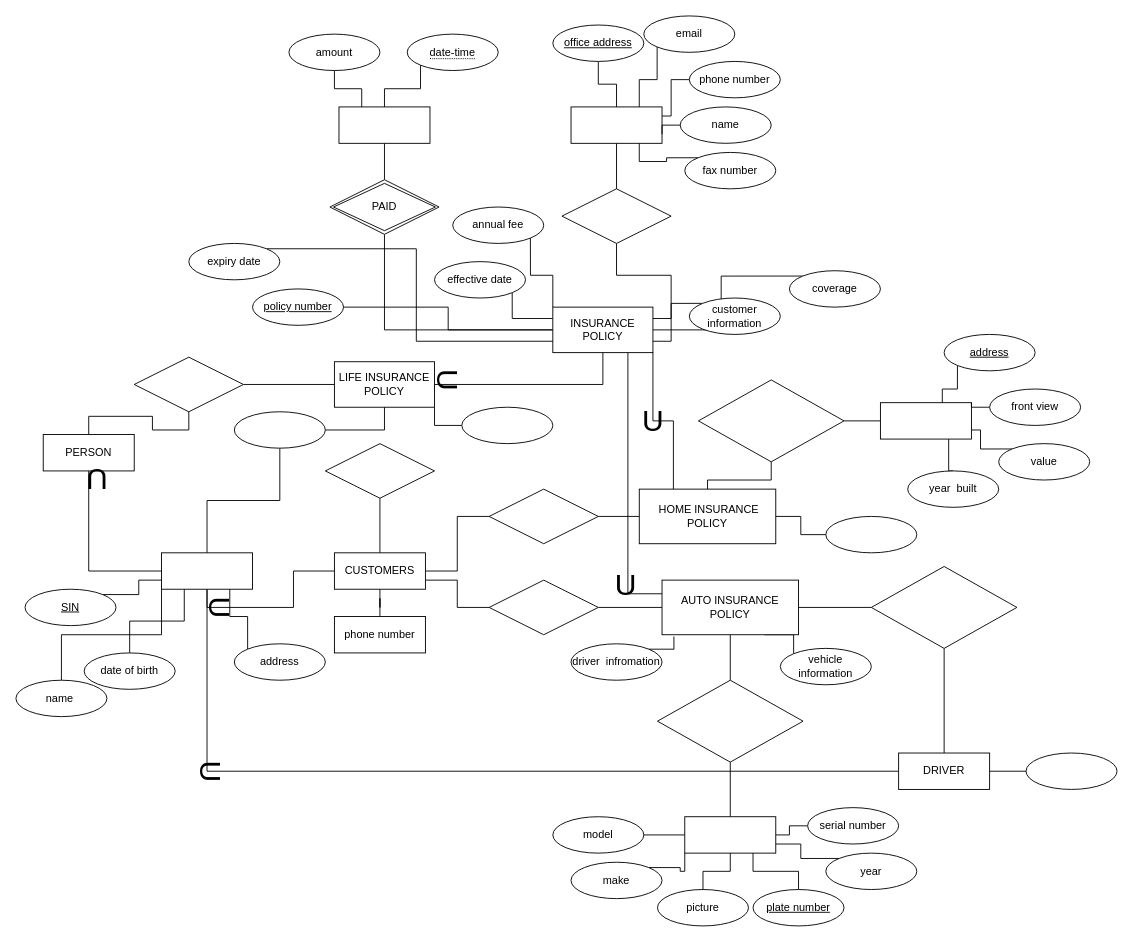
Some shapes in this 1133 by 942 pixel diagram are drawn without their labels. The centre of each missing label's shape, as x and y in pixels:
"beneficiary" belongs at pixel 279 429.
"BUY AUTO" belongs at pixel 543 607.
"BUY HOME" belongs at pixel 543 516.
"BUY LIFE" belongs at pixel 379 470.
"CLIENTS" belongs at pixel 207 570.
"DRIVER INSURANCE" belongs at pixel 943 607.
"HOUSE" belongs at pixel 925 420.
"house information" belongs at pixel 871 534.
"HOUSE INSURANCE" belongs at pixel 771 420.
"INSURANCE BROKERS" belongs at pixel 616 124.
"insured person" belongs at pixel 507 425.
"INSURES" belongs at pixel 188 384.
"license number" belongs at pixel 1071 770.
"PAYMENTS" belongs at pixel 384 124.
"SELLS" belongs at pixel 616 215.
"VEHICLE" belongs at pixel 730 834.
"VEHICLE INSURANCE" belongs at pixel 730 720.
